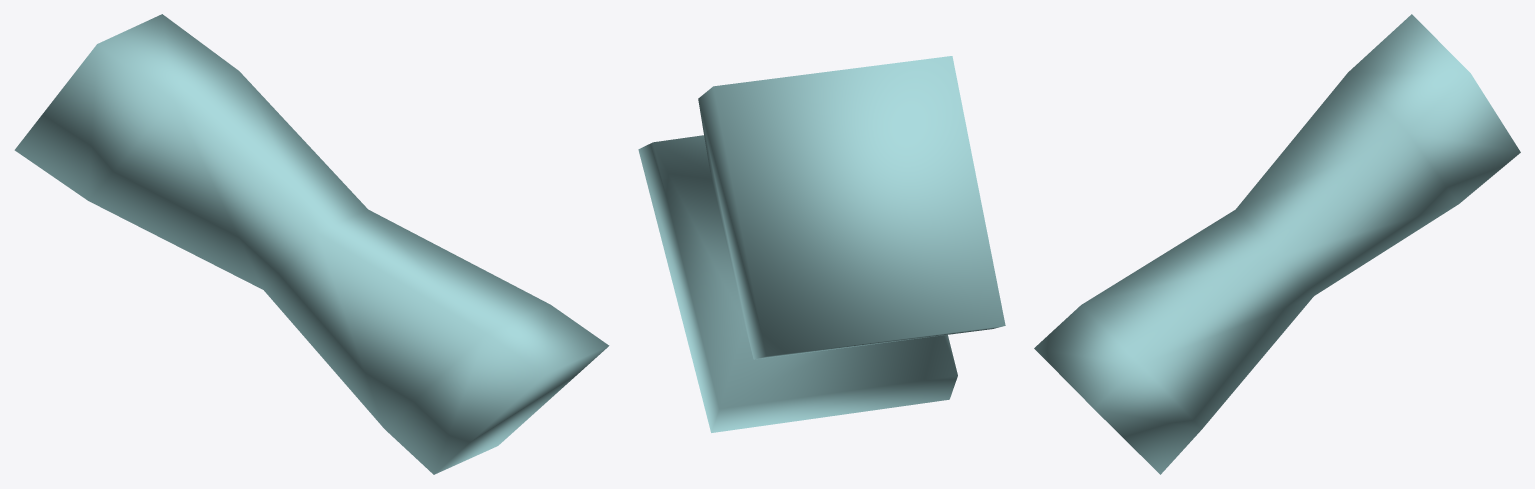
The model's file is Skelly_thumb.01.L.fbx.
3 views of the same model, side by side, from view 1: azimuth 30°, elevation 25°; view 2: azimuth 150°, elevation 25°; view 3: azimuth 270°, elevation 25° (orthographic). The views are drawn at different scales.
Parts seen in each view (by area): view 1: Skelly_thumb.01.L; view 2: Skelly_thumb.01.L; view 3: Skelly_thumb.01.L.
Boxes of the visible parts, box(x1,y1,x2,y2) form: Skelly_thumb.01.L: box(14, 14, 609, 474); Skelly_thumb.01.L: box(638, 56, 1005, 432); Skelly_thumb.01.L: box(1034, 14, 1520, 474).
Bounding box in the file's own units: 3 × 2.66 × 3.44.
